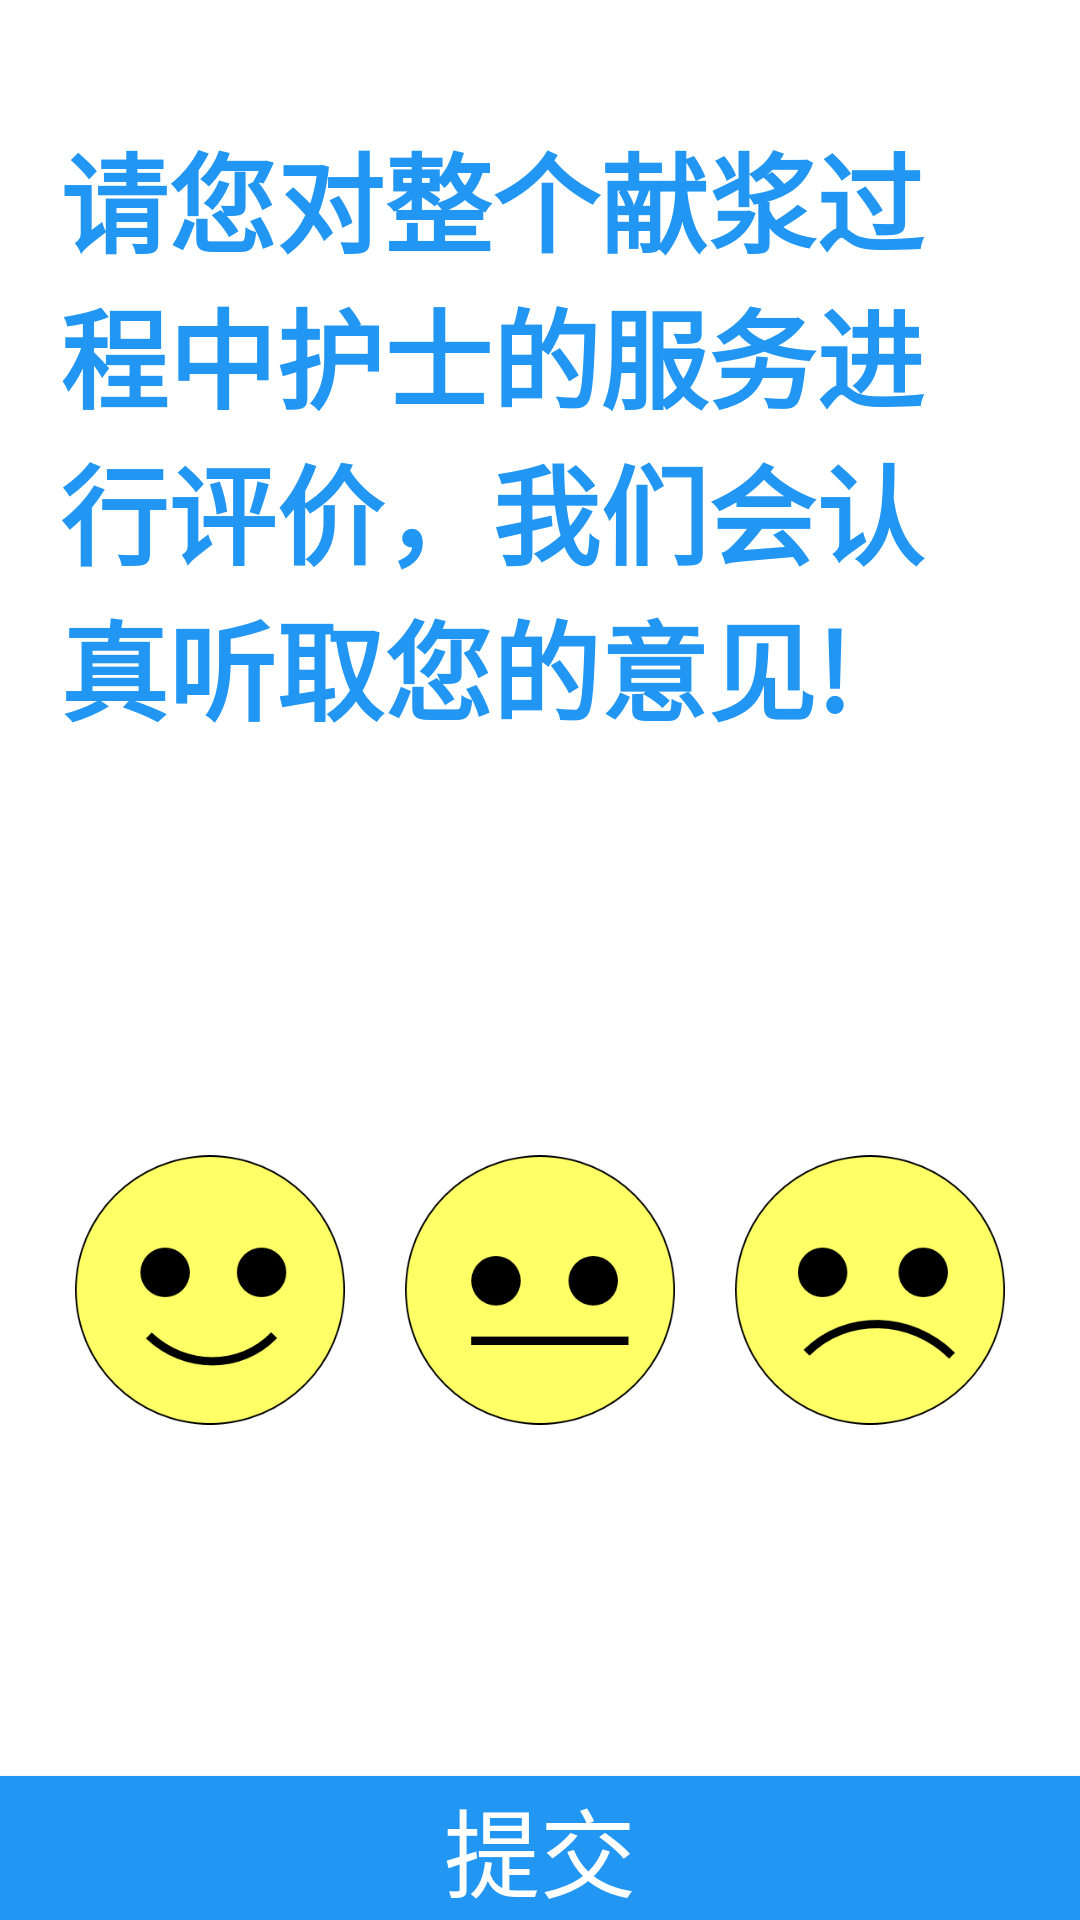

Point at icon controls on the screen. Image size 1080×1920, points as [x,y].
good: [210,1290]
soso: [540,1290]
terrible: [870,1290]
